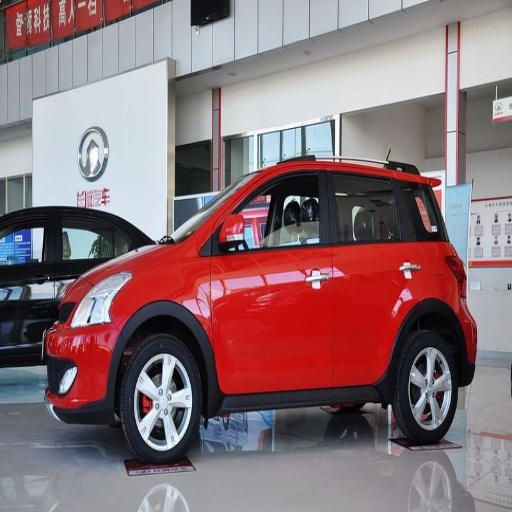back_left_door: (333, 169, 426, 384)
trunk: (82, 96, 124, 149)
